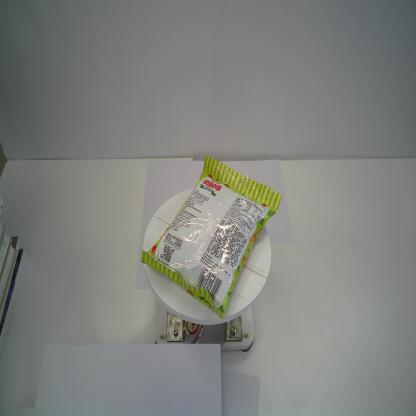Puffed Food: (140, 155, 284, 319)
